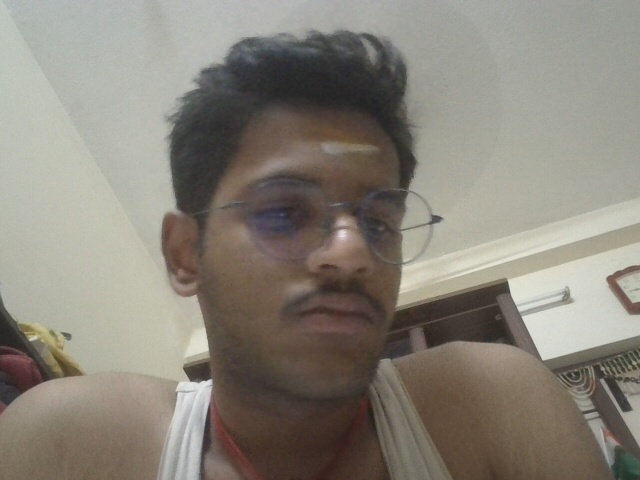real: (164, 96, 437, 369)
